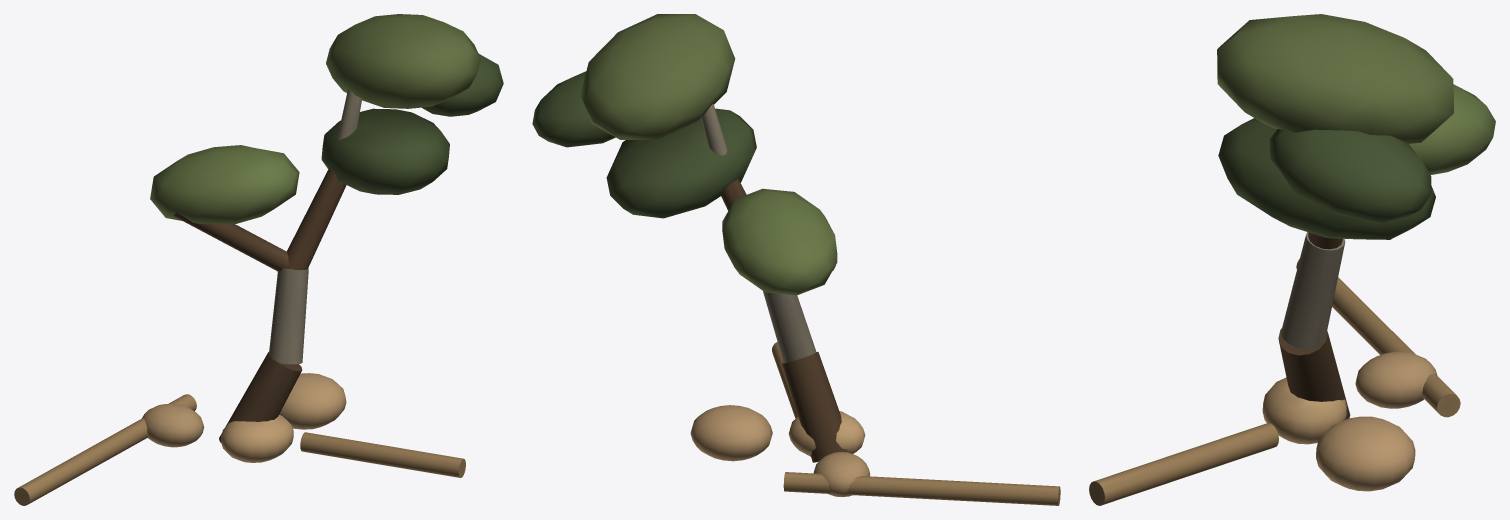
File: juniper_snag_b.glb
3 views of the same model, side by side, from view 1: azimuth 30°, elevation 25°; view 2: azimuth 150°, elevation 25°; view 3: azimuth 270°, elevation 25° (orthographic). The views are drawn at different scales.
Visible parts, largest first — view 1: Surface; view 2: Surface; view 3: Surface.
Boxes of the visible parts, left/top/right/bottom form: Surface: left=14, top=14, right=503, bottom=505; Surface: left=532, top=14, right=1060, bottom=505; Surface: left=1089, top=14, right=1495, bottom=505.
Bounding box in the file's own units: 2.71 × 2.03 × 1.46.
